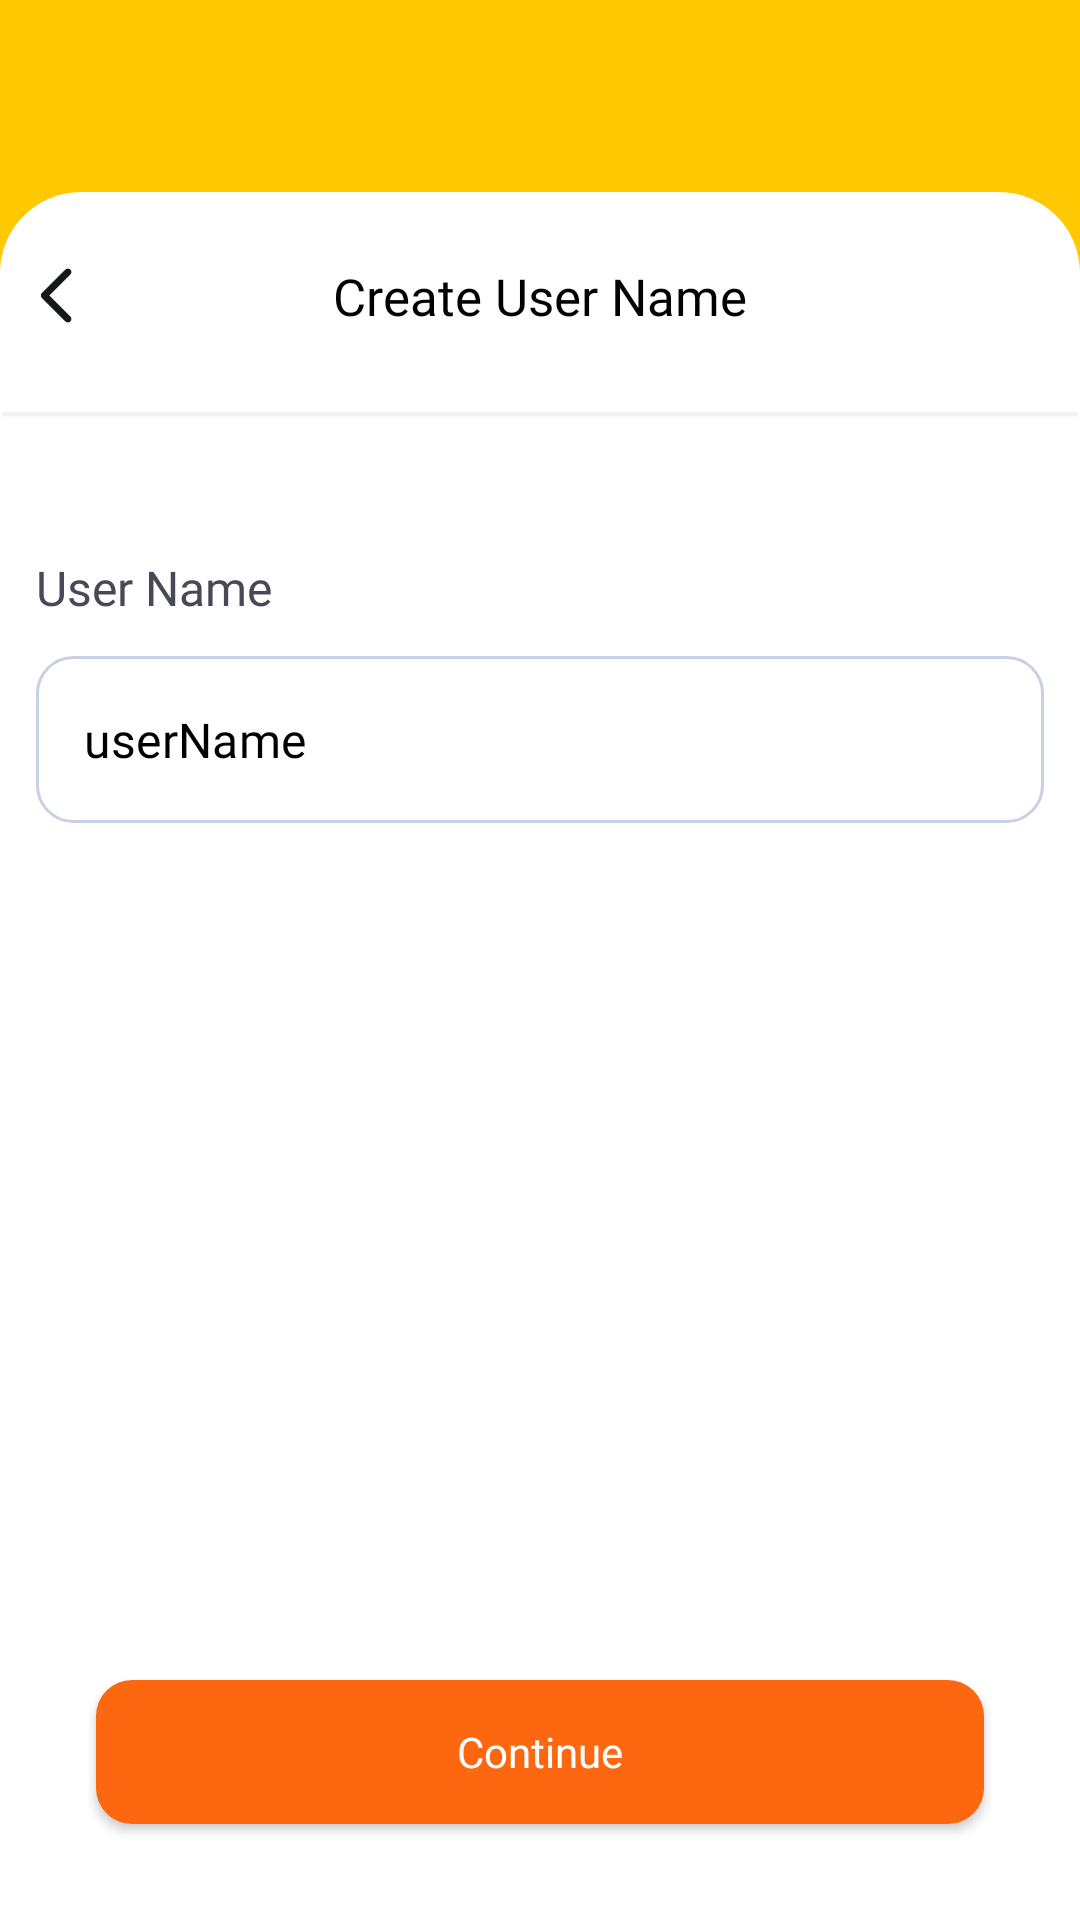

Point at icon controls on the screen. Image size 1080*1920, points as [x,y].
arrow: [56,295]
